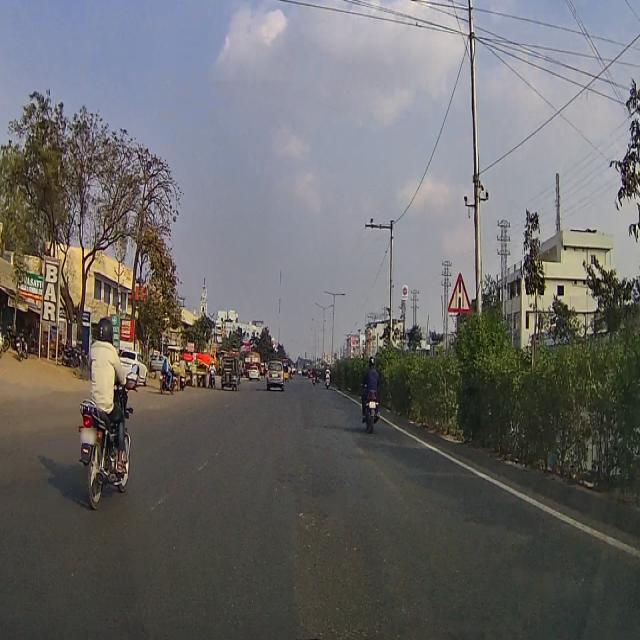gap-in-median: (446, 270, 473, 316)
